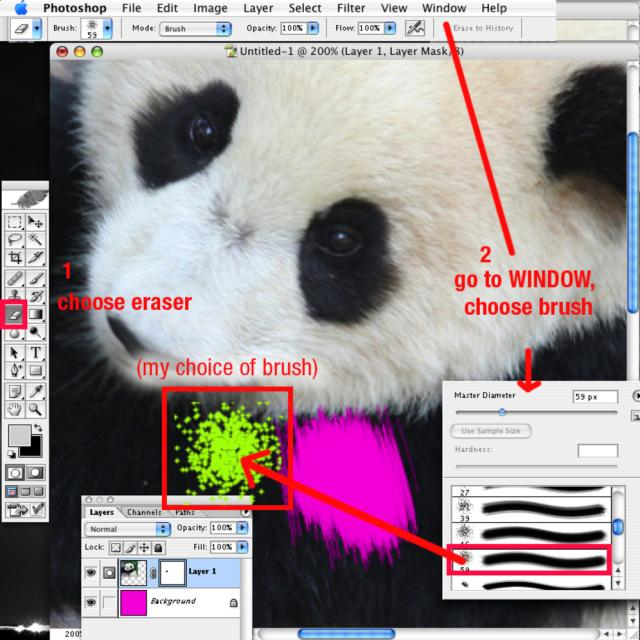panda: (3, 56, 624, 626)
